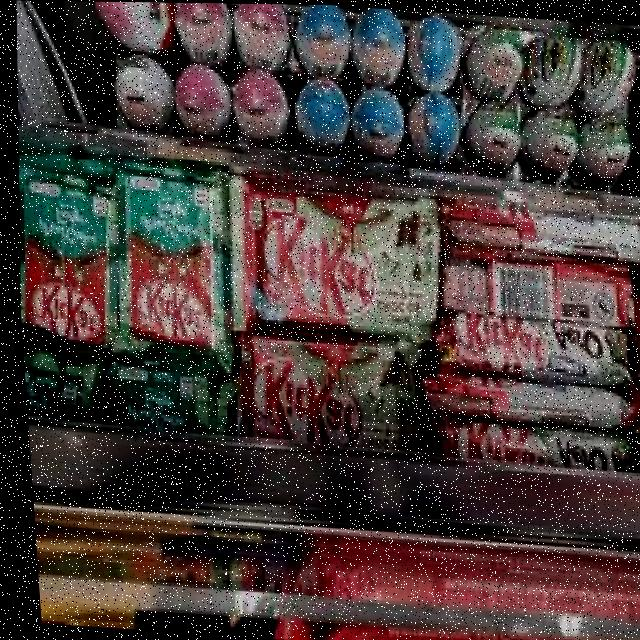kitkat: (216, 182, 446, 352), (101, 160, 246, 361), (230, 331, 420, 453)
